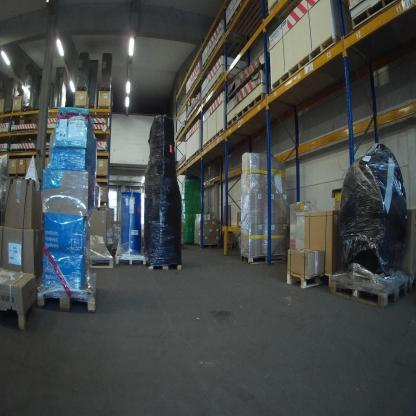pallets: (265, 36, 340, 94), (329, 273, 413, 308), (223, 93, 269, 130), (285, 270, 327, 289), (239, 253, 281, 264)
